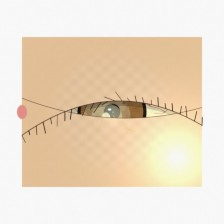corneal_ulcer: (82, 97, 132, 137)
